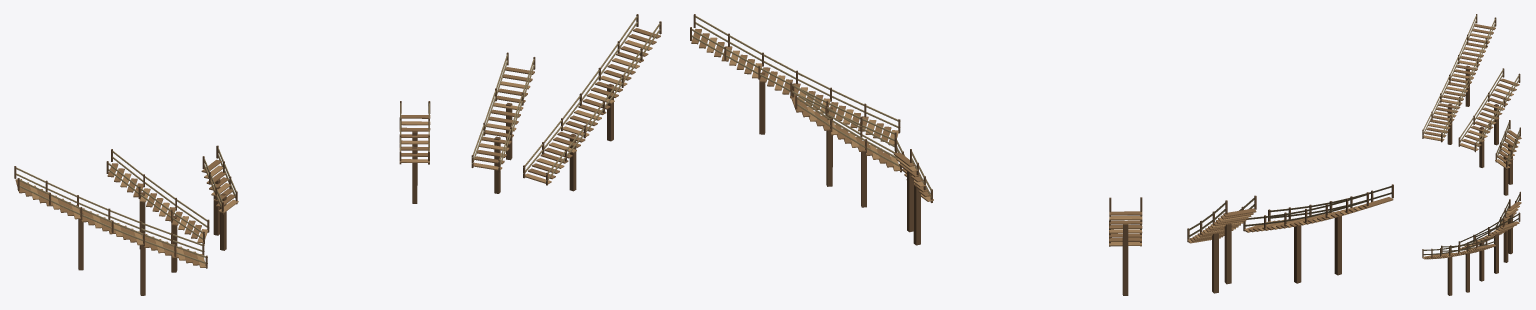
The model's file is 10_Pontes.fbx.
The picture shows the model from 3 angles, left to right: view 1: azimuth 30°, elevation 25°; view 2: azimuth 150°, elevation 25°; view 3: azimuth 270°, elevation 25°; orthographic projection. The views are drawn at different scales.
Visible parts, largest first — view 1: no part large enough to name; view 2: Pnt_ICE_Sup66, Pnt_FOREST_Sup66, Pnt_FOREST_Sup33; view 3: Pnt_CELESTIAL_Sup33, Pnt_SHADOW_Sup33, Pnt_CELESTIAL_Sup66, Pnt_DESERT_Sup33, Pnt_ICE_Sup33, Pnt_SHADOW_Sup66, Pnt_VOLCANO_Sup33, Pnt_ICE_Sup66, Pnt_VOLCANO_Sup66, Pnt_FOREST_Sup33, Pnt_DESERT_Sup66, Pnt_FOREST_Sup66.
Boxes of the visible parts, x1=… form: Pnt_ICE_Sup66: x1=1224, y1=224, x2=1231, y2=284; Pnt_FOREST_Sup66: x1=1334, y1=216, x2=1341, y2=275; Pnt_FOREST_Sup33: x1=1294, y1=225, x2=1301, y2=283; Pnt_CELESTIAL_Sup33: x1=1447, y1=257, x2=1452, y2=295; Pnt_SHADOW_Sup33: x1=1479, y1=242, x2=1484, y2=281; Pnt_CELESTIAL_Sup66: x1=1465, y1=253, x2=1469, y2=292; Pnt_DESERT_Sup33: x1=1503, y1=154, x2=1508, y2=195; Pnt_ICE_Sup33: x1=1479, y1=126, x2=1484, y2=167; Pnt_SHADOW_Sup66: x1=1494, y1=234, x2=1498, y2=273; Pnt_VOLCANO_Sup33: x1=1503, y1=222, x2=1508, y2=262; Pnt_ICE_Sup66: x1=1494, y1=104, x2=1498, y2=145; Pnt_VOLCANO_Sup66: x1=1508, y1=214, x2=1512, y2=254; Pnt_FOREST_Sup33: x1=1447, y1=103, x2=1452, y2=144; Pnt_DESERT_Sup66: x1=1508, y1=144, x2=1512, y2=184; Pnt_FOREST_Sup66: x1=1465, y1=65, x2=1469, y2=106.
Bounding box in the file's own units: 14673 × 3081 × 2733.
